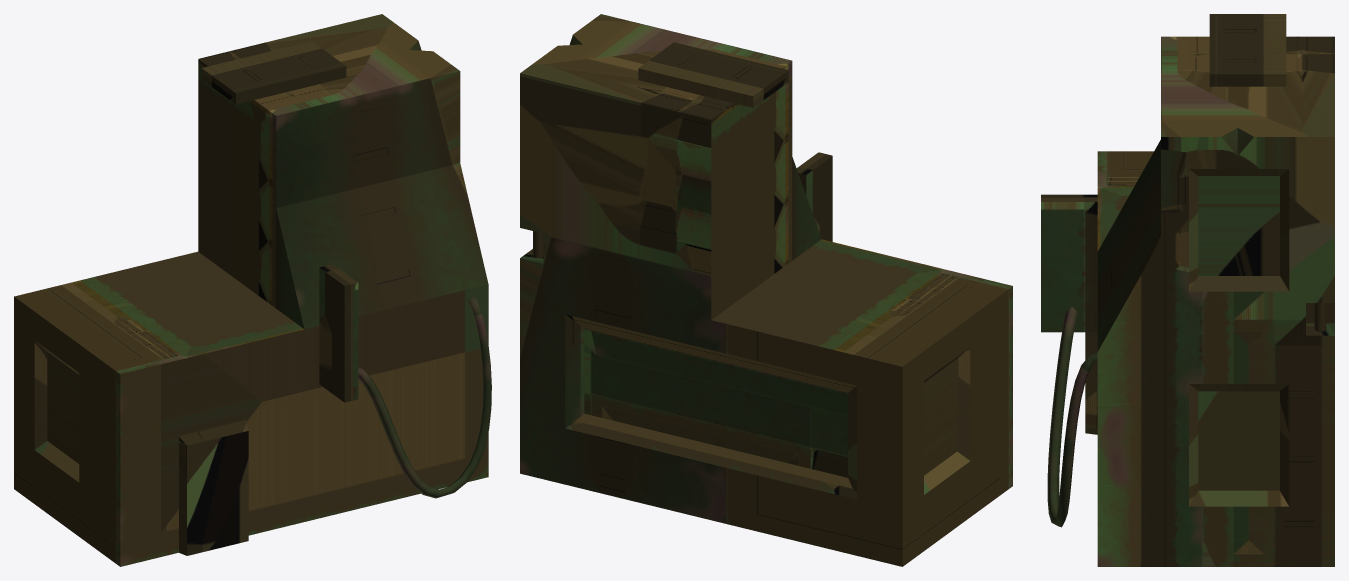
File: home_10 1.fbx
3 renders of one model, left to right at view 1: azimuth 30°, elevation 25°; view 2: azimuth 150°, elevation 25°; view 3: azimuth 270°, elevation 25°, orthographic. The views are drawn at different scales.
Visible parts, largest first — view 1: home_10_003; view 2: home_10_003; view 3: home_10_003.
Part boxes in pixels (x1,y1,x2,y2): home_10_003: [14, 14, 491, 566]; home_10_003: [520, 14, 1012, 566]; home_10_003: [1041, 14, 1334, 566].
Size of the model in its own units: 400 by 412 by 248.
